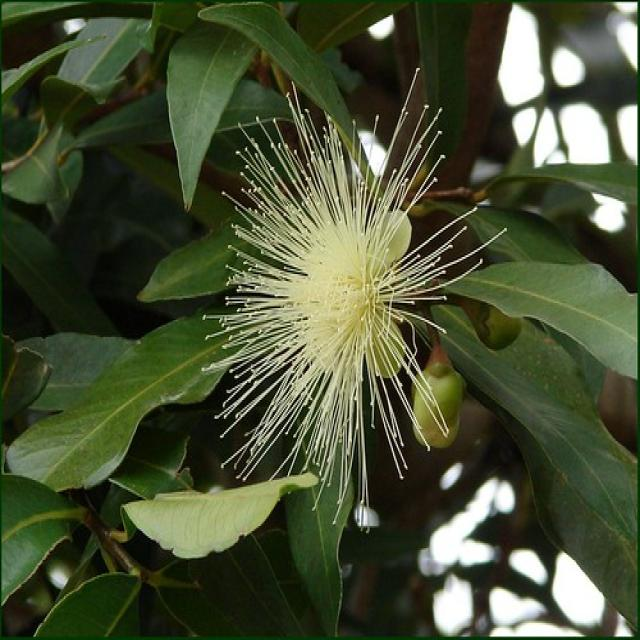Medicinal-Rose Apple: (1, 0, 640, 640)
